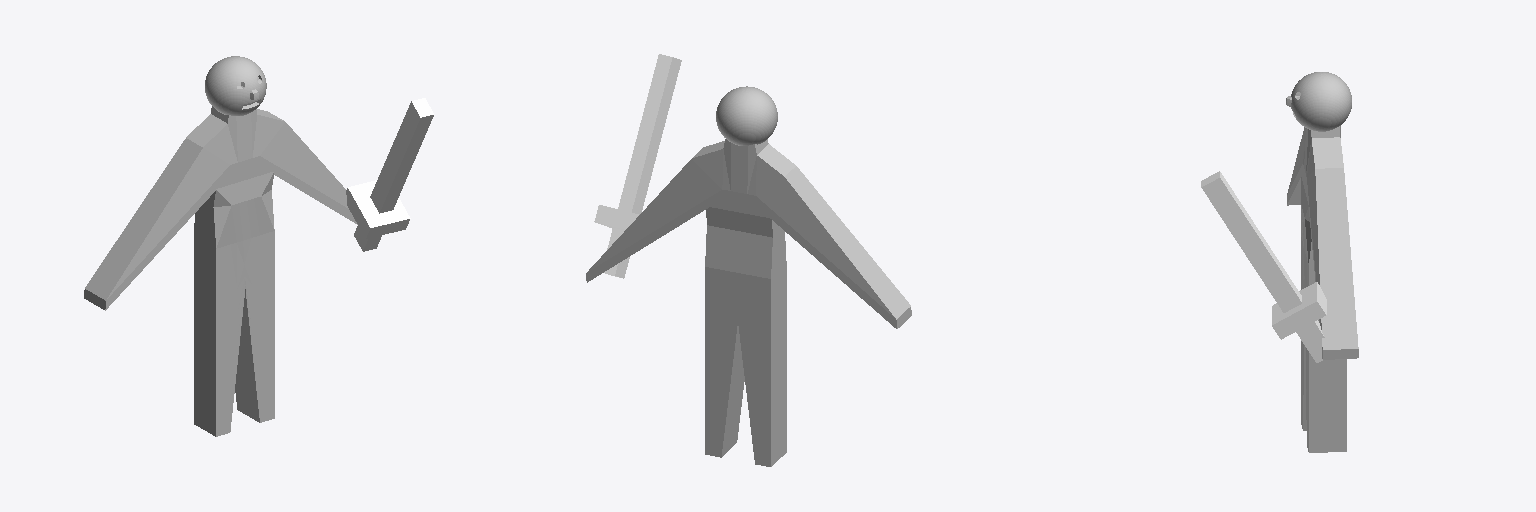
File: player.obj
The picture shows the model from 3 angles: view 1: azimuth 30°, elevation 25°; view 2: azimuth 150°, elevation 25°; view 3: azimuth 270°, elevation 25°; orthographic projection.
Visible parts, largest first — view 1: 球.003, 立方体.001; view 2: 球.003, 立方体.001; view 3: 球.003, 立方体.001.
Boxes of the visible parts, box(x1,y1,x2,y2) form: 球.003: box(84, 56, 357, 436); 立方体.001: box(346, 98, 433, 251); 球.003: box(586, 86, 911, 466); 立方体.001: box(594, 54, 681, 278); 球.003: box(1286, 72, 1358, 452); 立方体.001: box(1201, 171, 1326, 362).
Size of the model in its own units: 2.58 by 2.97 by 1.17.